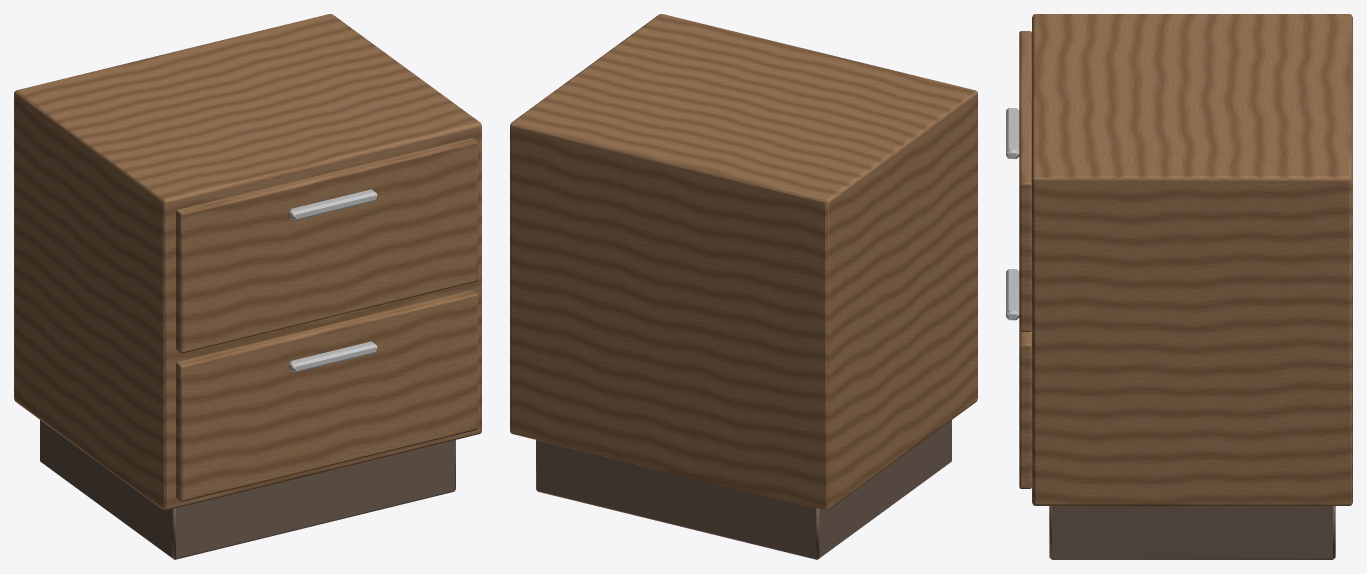
Rendered from nightstand-45.glb.
3 views of the same model, side by side, from view 1: azimuth 30°, elevation 25°; view 2: azimuth 150°, elevation 25°; view 3: azimuth 270°, elevation 25° (orthographic). The views are drawn at different scales.
Parts seen in each view (by area): view 1: nightstand-45; view 2: nightstand-45; view 3: nightstand-45.
Part boxes in pixels (x1,y1,x2,y2): nightstand-45: [14, 14, 481, 559]; nightstand-45: [510, 14, 977, 559]; nightstand-45: [1006, 14, 1352, 559].
Bounding box in the file's own units: 0.45 × 0.5 × 0.4.
Materials: 3 (1 with a texture image).
